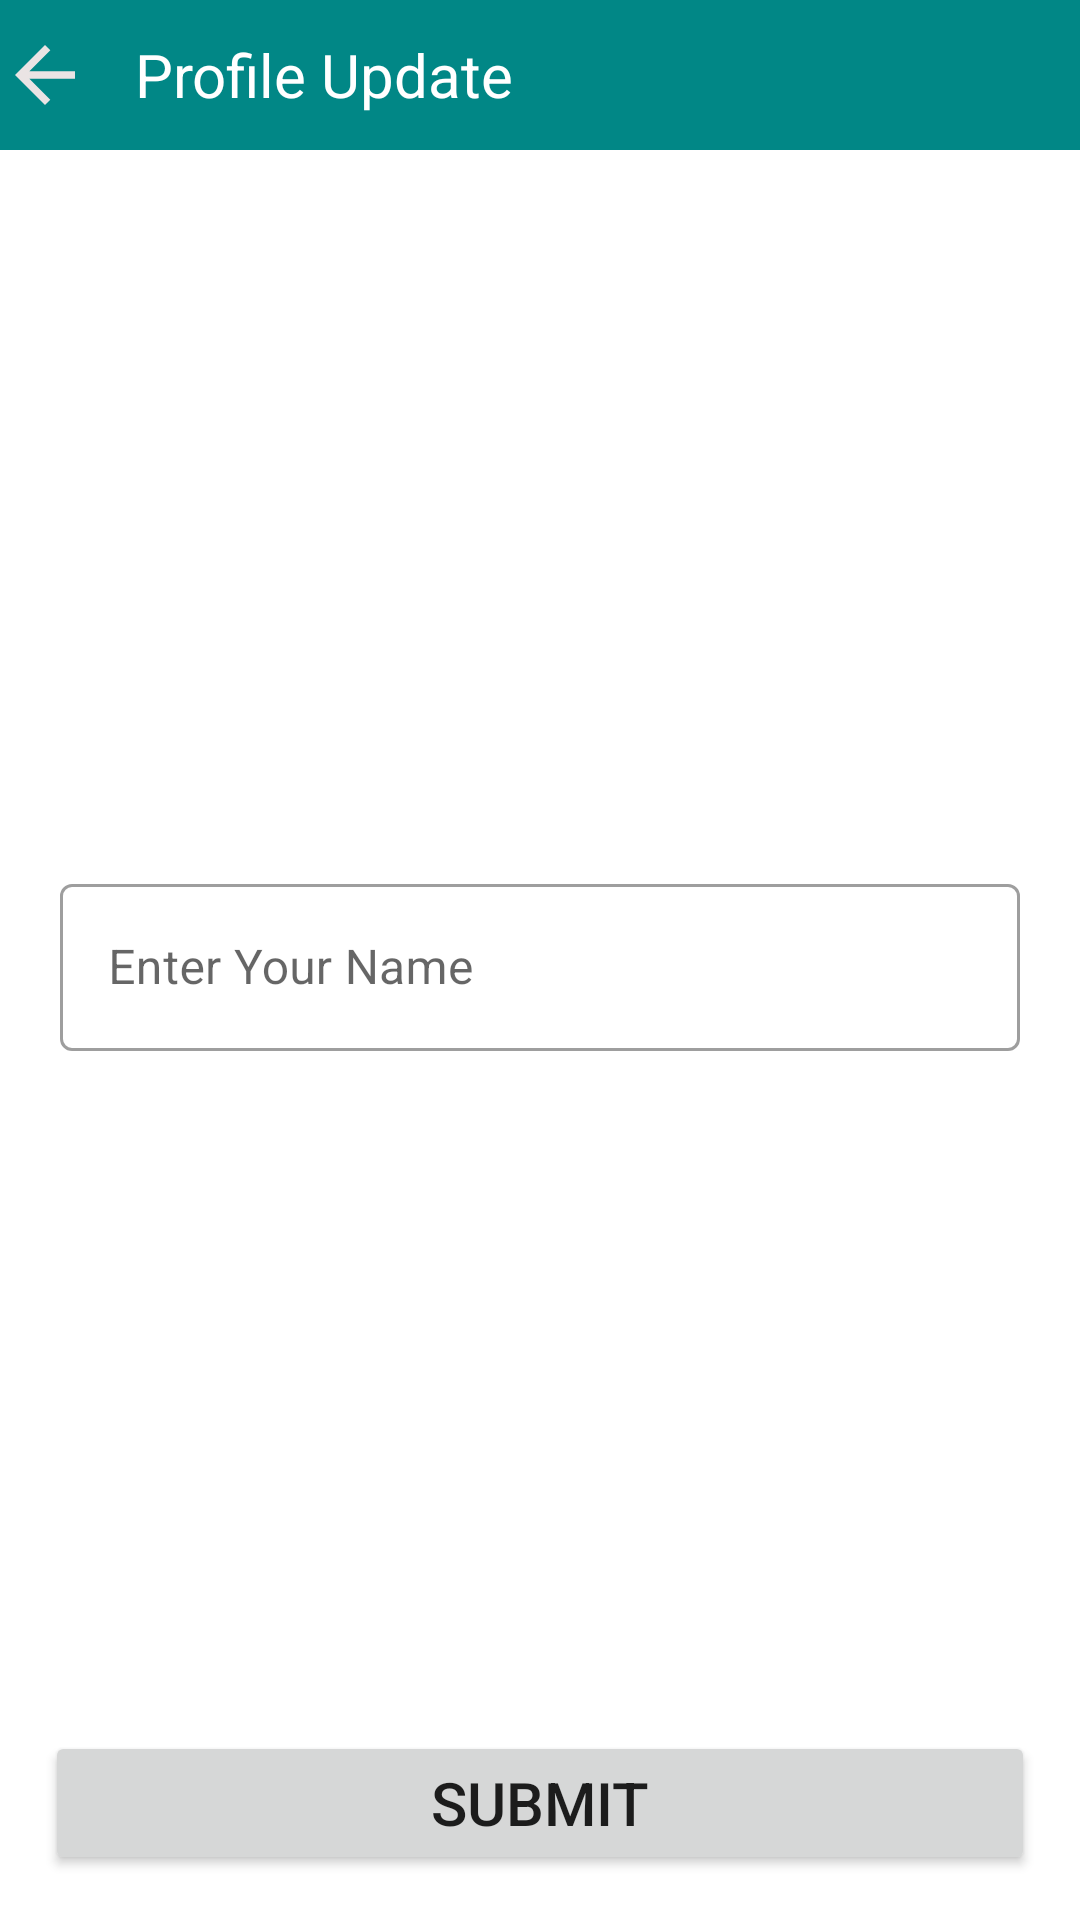

Where to tap for icons on this 1080px×1920px app screen, as point (x, y):
back: point (45, 75)
